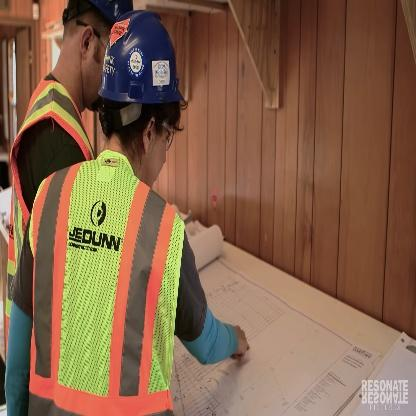helmet: (95, 6, 184, 192)
